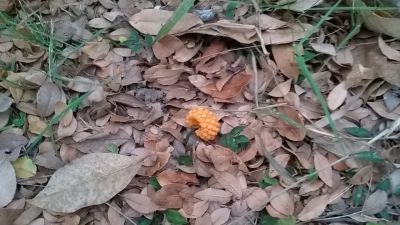eggs: (187, 106, 221, 142)
